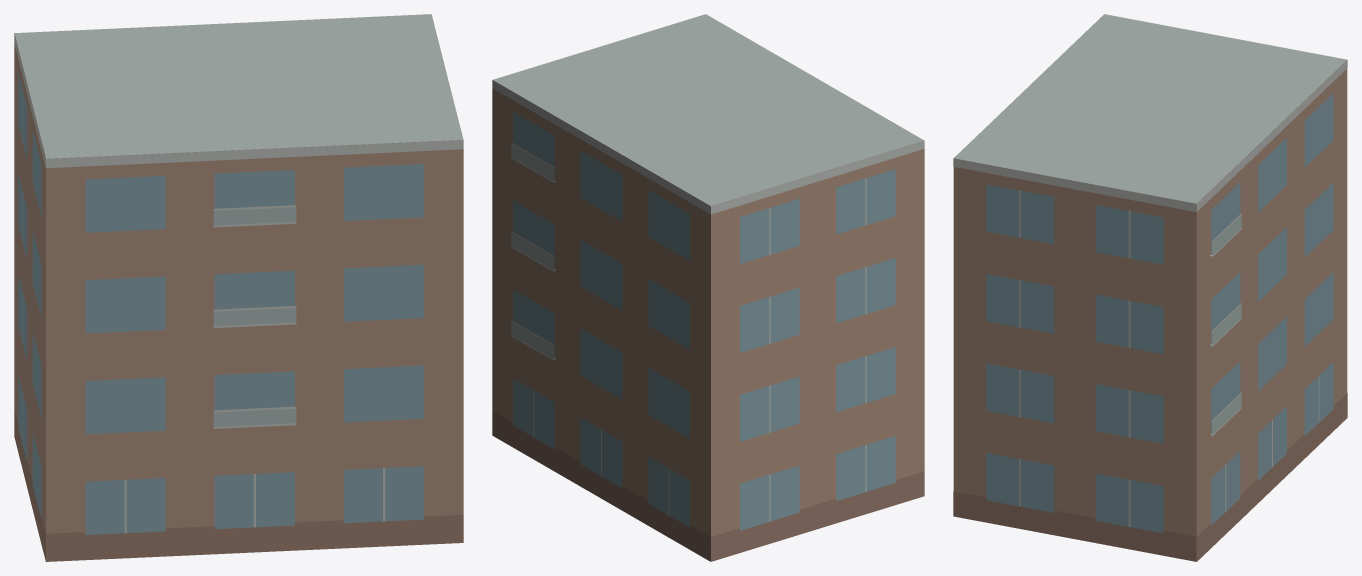
File: survey-upis-32524108.glb
3 renders of one model, left to right at view 1: azimuth 30°, elevation 25°; view 2: azimuth 150°, elevation 25°; view 3: azimuth 270°, elevation 25°, orthographic. The views are drawn at different scales.
Visible parts, largest first — view 1: survey-upis-32524108.tmp; view 2: survey-upis-32524108.tmp; view 3: survey-upis-32524108.tmp.
Part boxes in pixels (left/top/right/bottom): survey-upis-32524108.tmp: left=14, top=14, right=463, bottom=561; survey-upis-32524108.tmp: left=492, top=14, right=924, bottom=561; survey-upis-32524108.tmp: left=953, top=14, right=1347, bottom=561.
Bounding box in the file's own units: 11.83 × 10.4 × 10.38.
